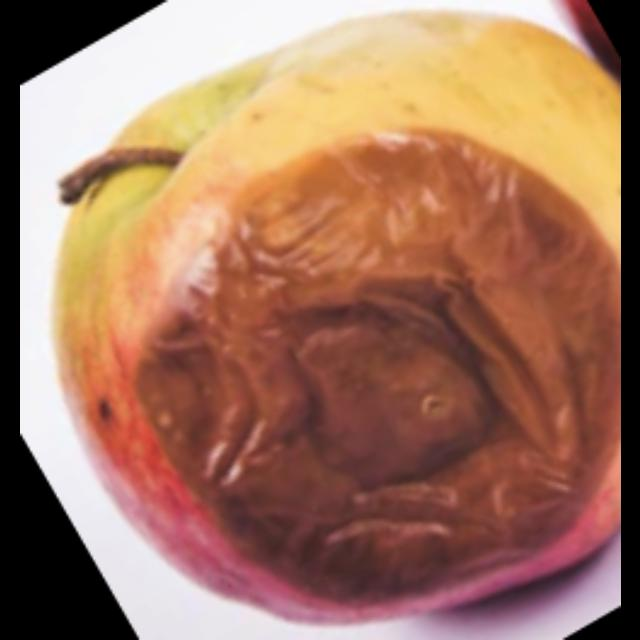Apel Tidak Segar: (51, 29, 620, 620)
